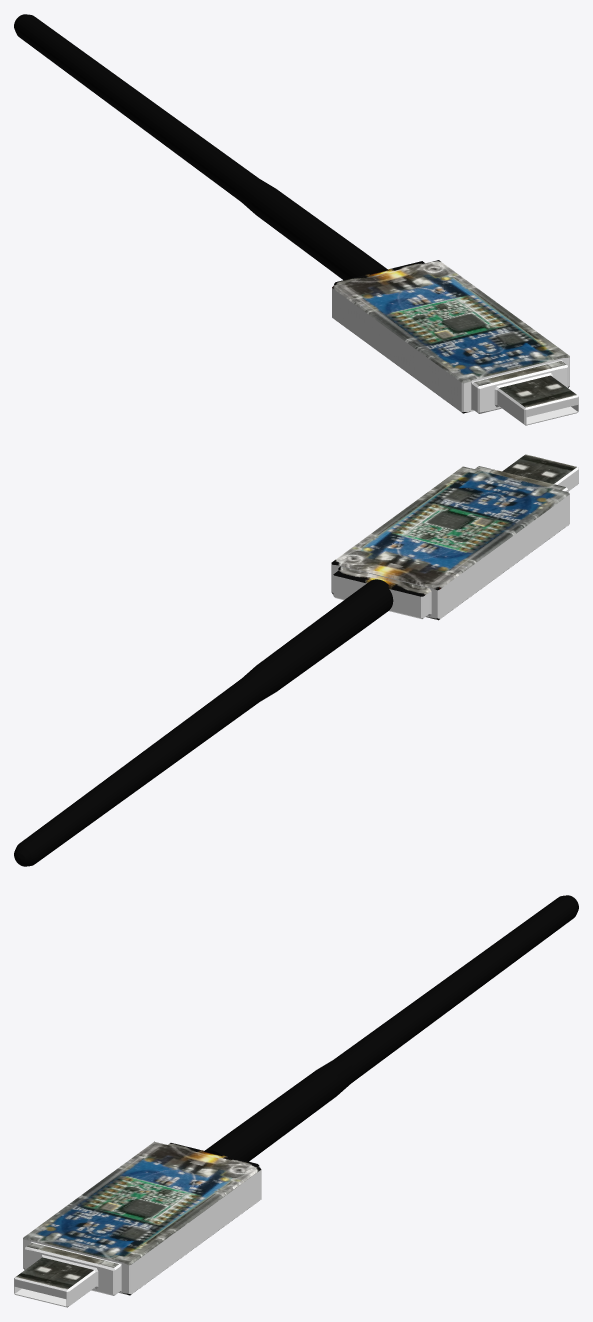
File: Dongle.glb
3 views of the same model, one above another, from view 1: azimuth 30°, elevation 25°; view 2: azimuth 150°, elevation 25°; view 3: azimuth 330°, elevation 25° (orthographic).
Visible parts, largest first — view 1: Cube, Cylinder; view 2: Cube, Cylinder; view 3: Cube, Cylinder.
Part boxes in pixels (x1,y1,x2,y2): Cube: (332, 260, 578, 425); Cylinder: (14, 14, 388, 280); Cube: (331, 454, 578, 620); Cylinder: (14, 579, 393, 866); Cube: (14, 1141, 261, 1307); Cylinder: (204, 895, 578, 1161).
Bounding box in the file's own units: 0.0256 × 0.00743 × 0.2171.
Materials: 5 (2 with a texture image).
